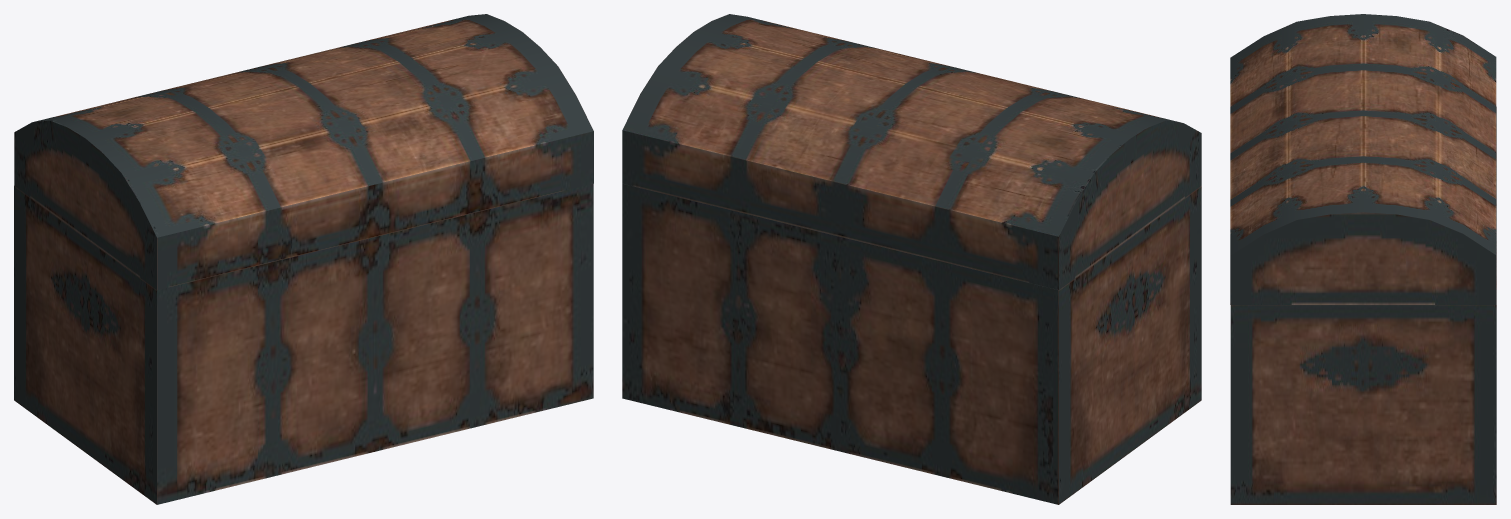
Rendered from Treasure_chamber_standard.glb.
3 views of the same model, side by side, from view 1: azimuth 30°, elevation 25°; view 2: azimuth 150°, elevation 25°; view 3: azimuth 270°, elevation 25° (orthographic). The views are drawn at different scales.
Visible parts, largest first — view 1: Treasure_chest, Treasure_chest.001; view 2: Treasure_chest, Treasure_chest.001; view 3: Treasure_chest.001, Treasure_chest.
Boxes of the visible parts, box(x1,y1,x2,y2) form: Treasure_chest: box(14, 184, 593, 504); Treasure_chest.001: box(14, 14, 593, 290); Treasure_chest: box(622, 183, 1201, 504); Treasure_chest.001: box(622, 14, 1201, 289); Treasure_chest.001: box(1230, 14, 1496, 304); Treasure_chest: box(1230, 107, 1496, 504).
Size of what is drawn, in the model's own units: 1.08 by 0.7392 by 0.6098.
2 materials, 2 textured.
